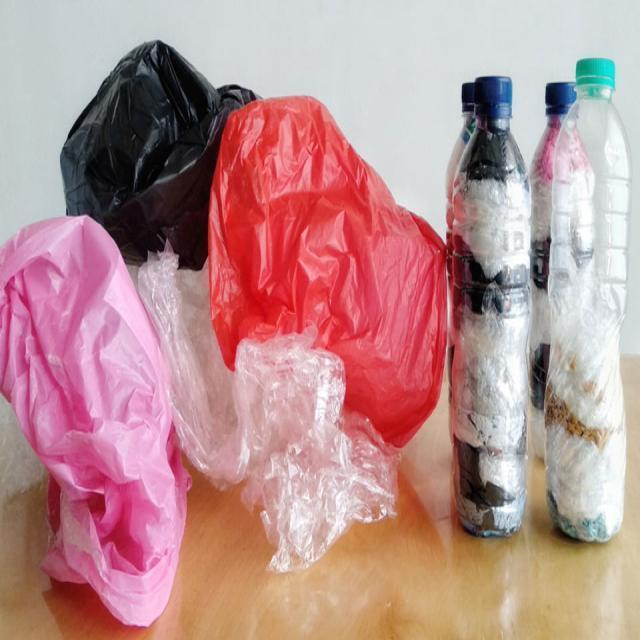Bolsa-de-plastico: (0, 41, 452, 632), (0, 215, 192, 628), (62, 43, 259, 225)
Botella de plastico: (443, 76, 538, 542), (530, 84, 625, 544)
